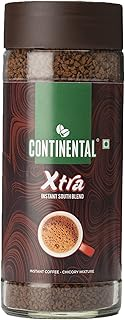Coffee: (3, 2, 125, 320)
